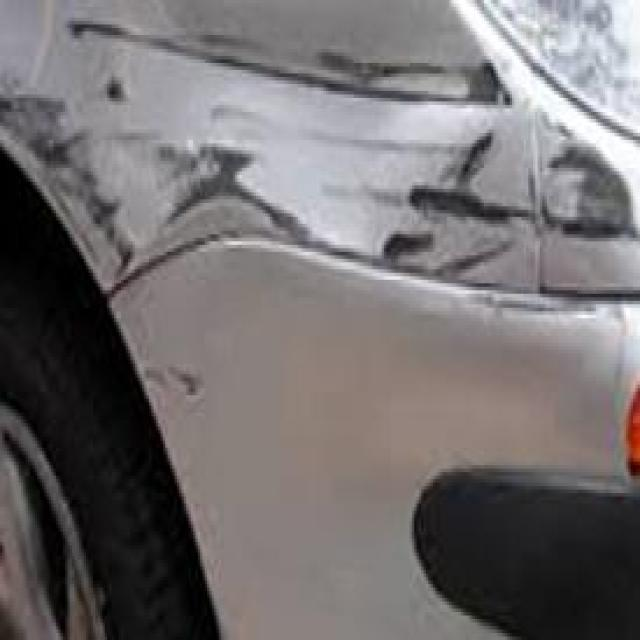scratch: (21, 14, 640, 346)
